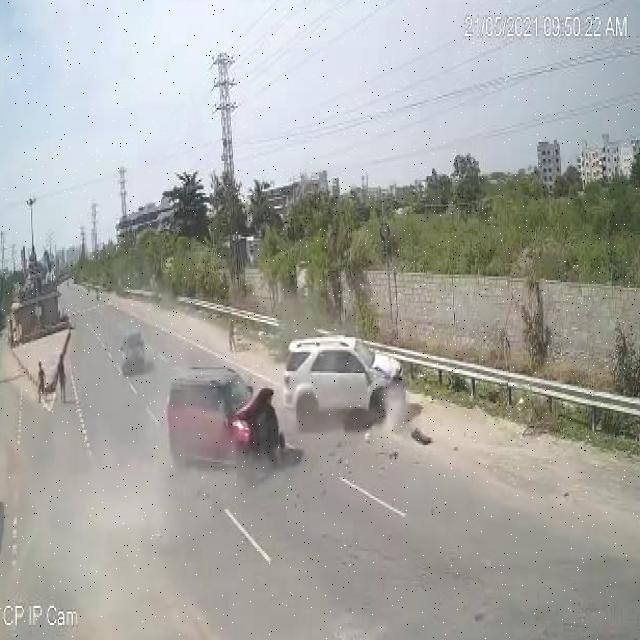accident: (154, 313, 437, 496)
